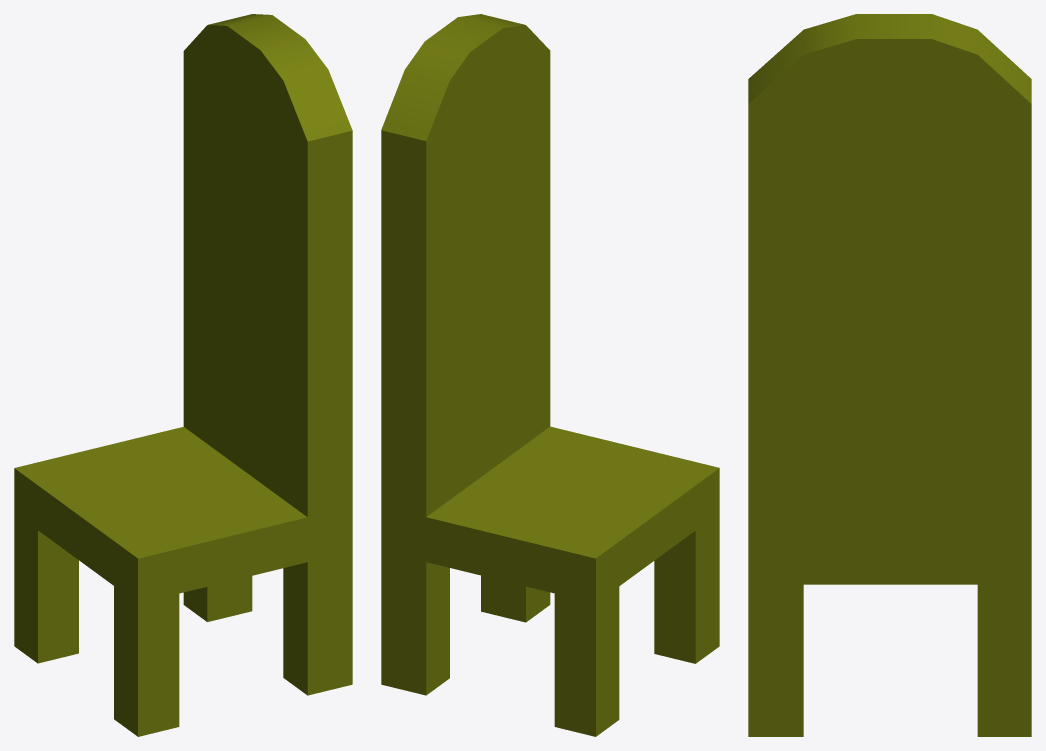
The model's file is Silla.fbx.
3 views of the same model, side by side, from view 1: azimuth 30°, elevation 25°; view 2: azimuth 150°, elevation 25°; view 3: azimuth 270°, elevation 25° (orthographic). The views are drawn at different scales.
Visible parts, largest first — view 1: Box002; view 2: Box002; view 3: Box002.
Part boxes in pixels (box(x1,y1,x2,y2)): Box002: box(14, 14, 352, 736); Box002: box(381, 14, 719, 736); Box002: box(748, 14, 1031, 736).
Size of the model in its own units: 0.0254 by 0.0254 by 0.0691.
